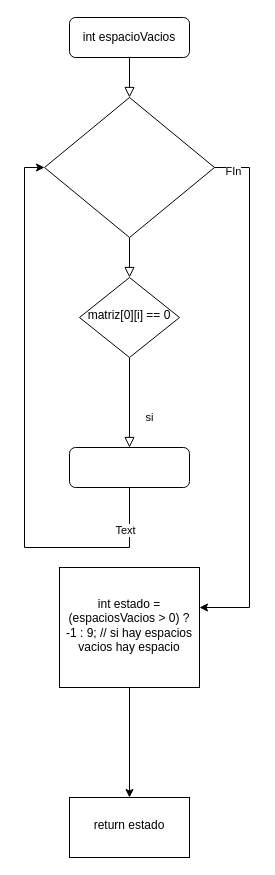
This 275x875 diagram has some shape labels left out. The centre of each missing label's shape, as x and y in pixels:
Espaciosvacios ++;: pixel 129 467
int i = 0; i < matriz[0].length; i++: pixel 129 167
